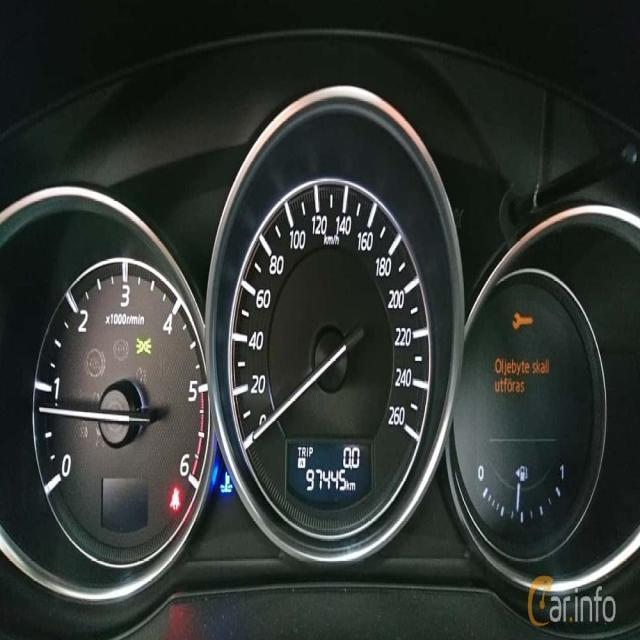Seat Belt: (166, 484, 181, 512)
